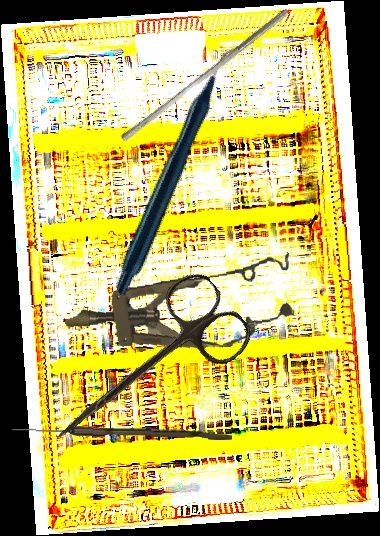Handpiece: (40, 43, 319, 299)
Iris Scissors: (31, 263, 259, 478)
Pusher: (119, 1, 291, 149)
Speculum: (60, 251, 299, 367)
Surgical Spoon: (11, 425, 233, 440)
